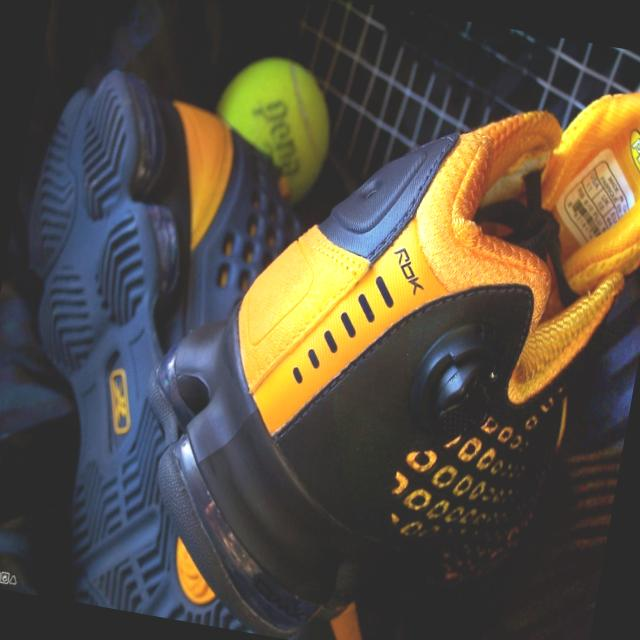Tennis ball: (207, 44, 354, 202)
